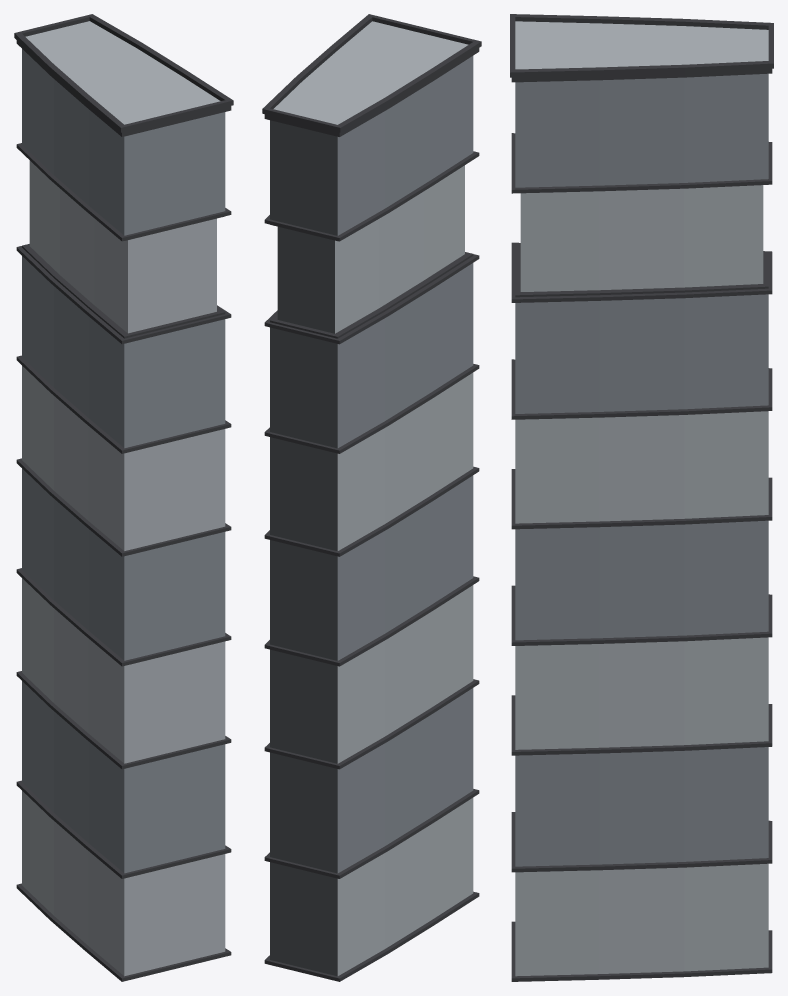
The model's file is talo6.fbx.
3 views of the same model, side by side, from view 1: azimuth 30°, elevation 25°; view 2: azimuth 150°, elevation 25°; view 3: azimuth 270°, elevation 25° (orthographic). The views are drawn at different scales.
Parts seen in each view (by area): view 1: talo6; view 2: talo6; view 3: talo6.
Boxes of the visible parts, x1,y1,x2,y2 form: talo6: [14, 14, 233, 981]; talo6: [262, 14, 481, 981]; talo6: [510, 14, 773, 981].
Size of the model in its own units: 81 by 587 by 154.
